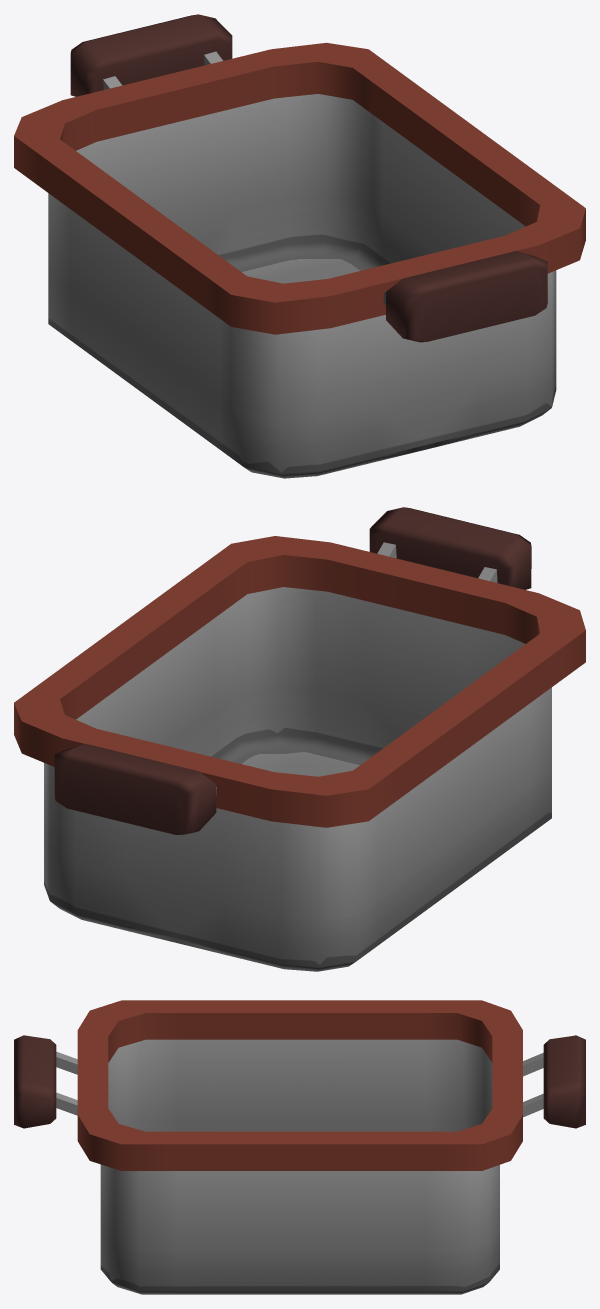
File: FryingPan.fbx
3 renders of one model, top to bottom at view 1: azimuth 30°, elevation 25°; view 2: azimuth 150°, elevation 25°; view 3: azimuth 270°, elevation 25°, orthographic. The views are drawn at different scales.
Parts seen in each view (by area): view 1: FryingPan; view 2: FryingPan; view 3: FryingPan.
Boxes of the visible parts, x1=… form: FryingPan: x1=14, y1=14, x2=585, y2=478; FryingPan: x1=14, y1=507, x2=585, y2=971; FryingPan: x1=14, y1=1000, x2=585, y2=1294.
Bounding box in the file's own units: 0.6886 × 0.4002 × 1.16.
Materials: 2 (2 with a texture image).
